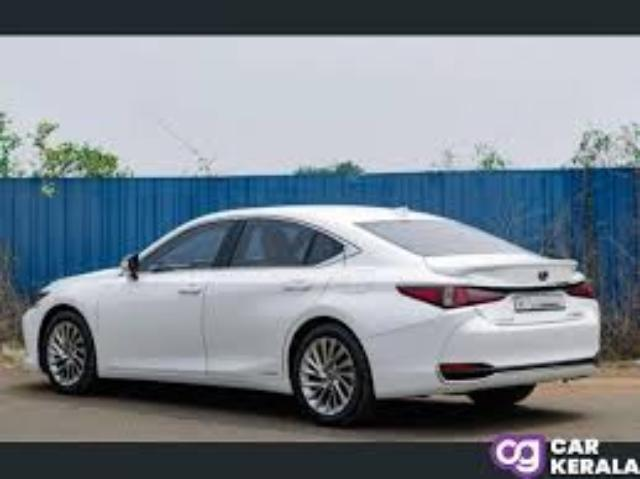lexus: (20, 207, 602, 428)
